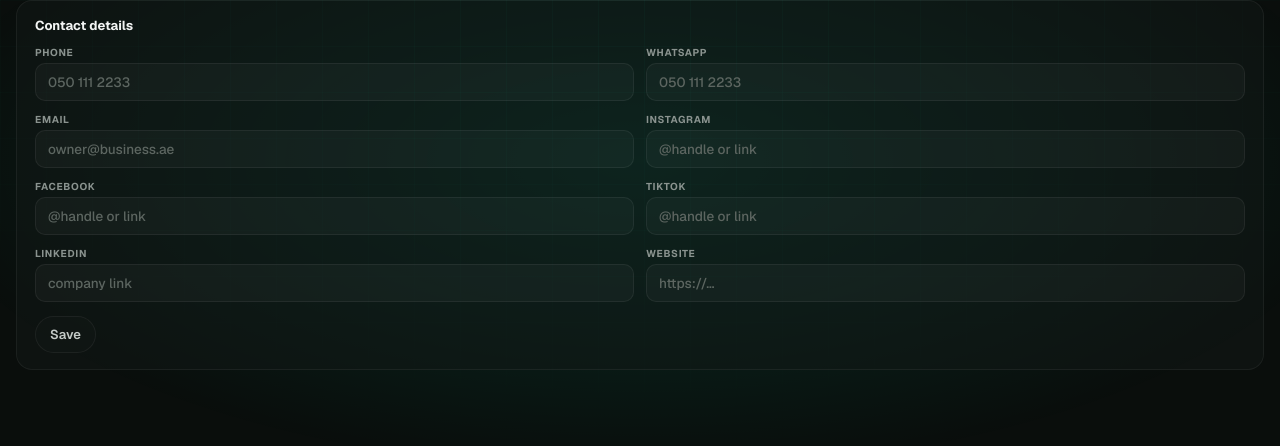
ContactDetails › surfaces a generic error when the rejection has no field-errors payload
Click the button "Save": (65, 334) x1=35 y1=316 x2=96 y2=353
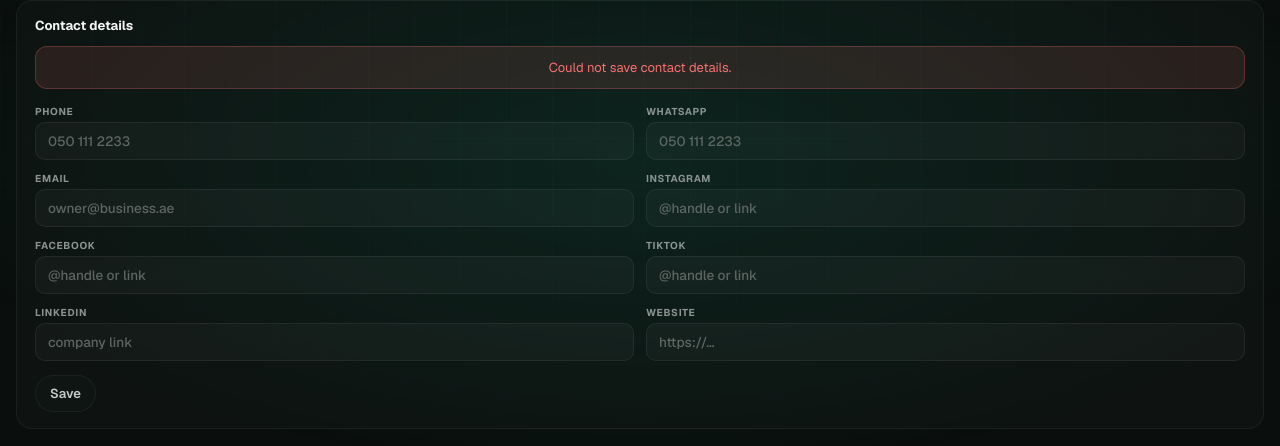
Result: the text "Could not save contact details." is shown at x1=35 y1=46 x2=1245 y2=89
